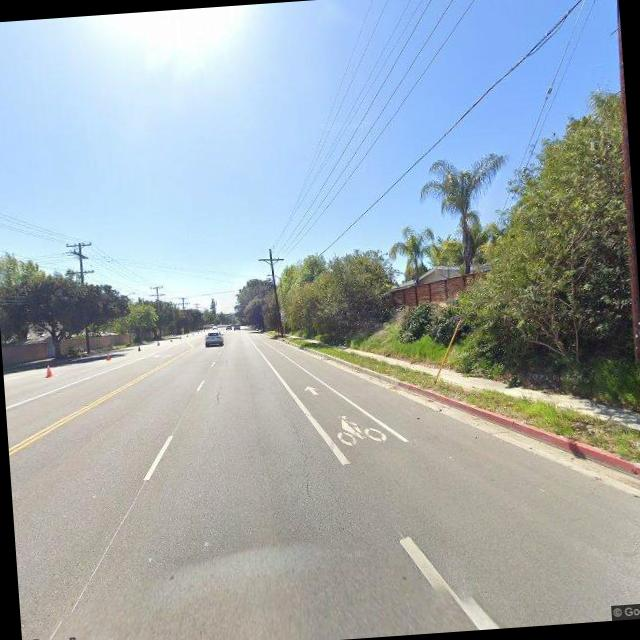crack: (289, 416, 321, 523), (210, 380, 225, 408)
